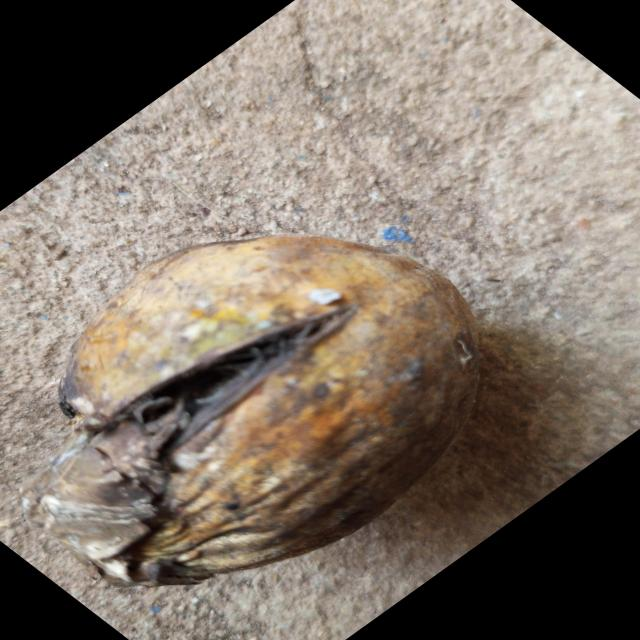damaged: (44, 233, 483, 591)
